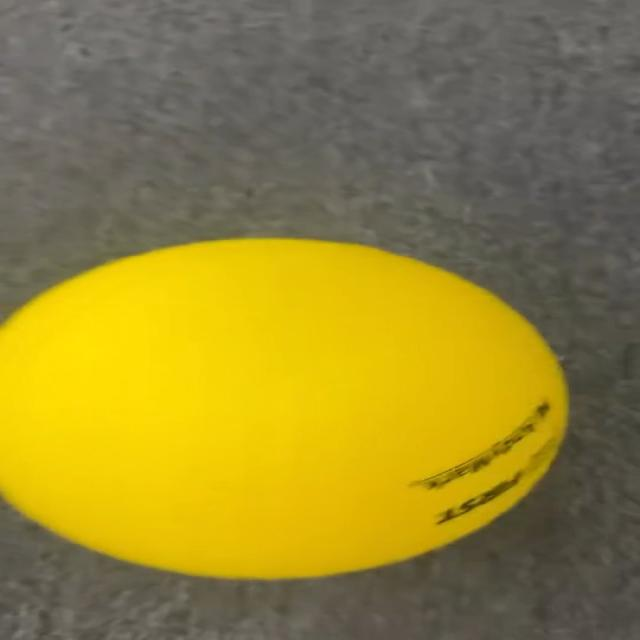Fuels: (5, 238, 568, 576)
